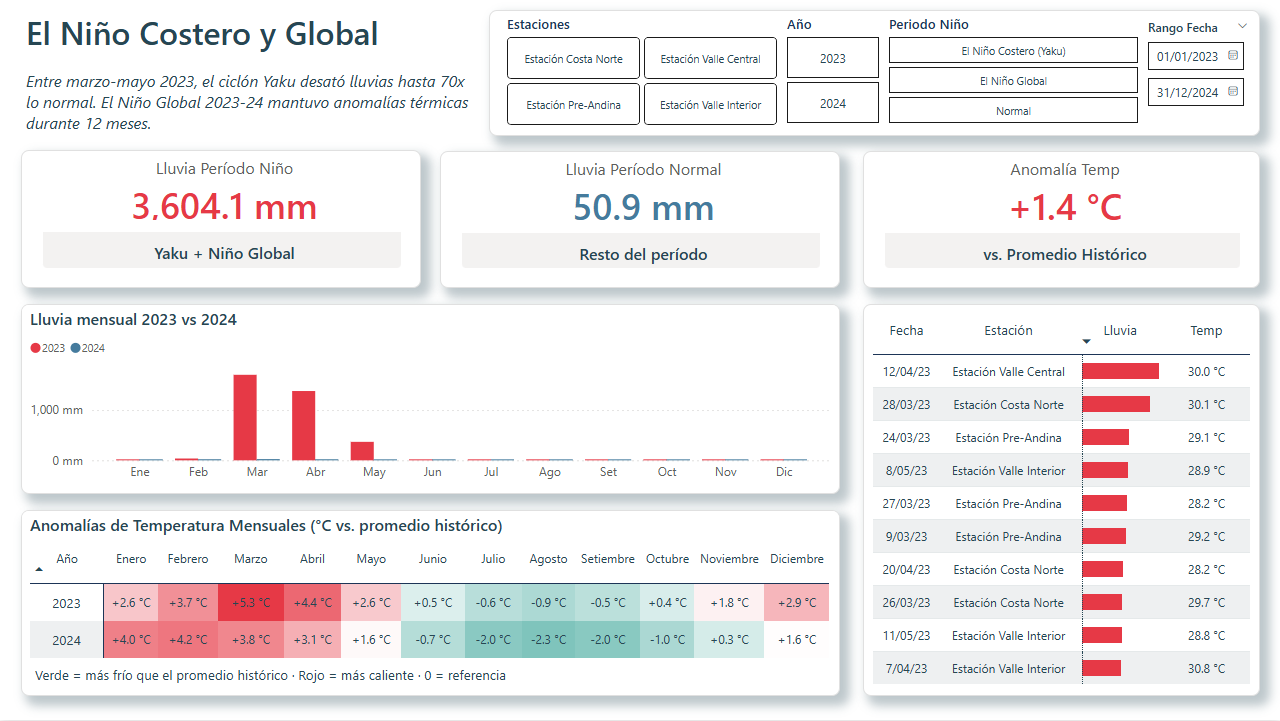

The dashboard page shown, as its layout file describes it:
{"tool":"powerbi","page":{"name":"El Niño 2023-24","canvas":[1280,720],"ordinal":1},"visuals":[{"type":"shape","box":[489.2,10,770.7,125.7],"z":0},{"type":"textbox","box":[20.7,5.2,462.5,140.7],"z":1000},{"type":"advancedSlicerVisual","title":"Estaciones","fields":{"Values":["dim_station.station_name"]},"box":[502,15.5,279.7,114.8],"z":2000},{"type":"slicer","fields":{"Values":["dim_date.date_local"]},"box":[1135,14.5,125.5,114.8],"z":3000},{"type":"listSlicer","fields":{"Values":["dim_date.year"]},"box":[781.7,14.6,102,114.8],"z":4000},{"type":"listSlicer","fields":{"Values":["dim_date.enso_period"]},"box":[883.7,15.5,259.6,114.8],"z":5000},{"type":"cardVisual","fields":{"Data":["fact_daily_summary.Lluvia en Período Niño"]},"box":[21,150.4,400,138],"z":6000},{"type":"cardVisual","fields":{"Data":["fact_daily_summary.Lluvia en Período Normal"]},"box":[440,151.2,399.9,136.7],"z":7000},{"type":"cardVisual","fields":{"Data":["fact_daily_summary.Anomalía Temp vs Promedio Histórico"]},"box":[862.7,151.2,397.2,136.7],"z":8000},{"type":"clusteredColumnChart","title":"Lluvia mensual 2023 vs 2024","fields":{"Category":["dim_date.month_3name"],"Y":["fact_daily_summary.Precipitación Acumulada"],"Series":["dim_date.year"]},"box":[20.7,304.2,819.5,189.4],"z":9000},{"type":"tableEx","fields":{"Values":["dim_date.date_local","dim_station.station_name","fact_daily_summary.Precipitación Acumulada","fact_daily_summary.Temp Promedio"]},"box":[863,304.2,397.3,392.2],"z":10000},{"type":"pivotTable","title":"Anomalías de Temperatura Mensuales (°C vs. promedio histórico)","fields":{"Rows":["dim_date.year"],"Values":["fact_daily_summary.Anomalía Temp vs Promedio Histórico"],"Columns":["dim_date.month_name_es"]},"box":[20.7,510.1,819.5,186.3],"z":11000},{"type":"textbox","box":[30,661.2,803,35.2],"z":12000}]}

Visuals, with their boxes in screenshot pixels (x1, y1, x2, y2), scaled from the page's 1280x720 canvas onto the 1280x721 screenshot:
shape: l=489, t=10, r=1260, b=136
textbox: l=21, t=5, r=483, b=146
"Estaciones" advancedSlicerVisual: l=502, t=16, r=782, b=130
slicer - dim_date.date_local: l=1135, t=15, r=1260, b=129
listSlicer - dim_date.year: l=782, t=15, r=884, b=130
listSlicer - dim_date.enso_period: l=884, t=16, r=1143, b=130
cardVisual - fact_daily_summary.Lluvia en Período Niño: l=21, t=151, r=421, b=289
cardVisual - fact_daily_summary.Lluvia en Período Normal: l=440, t=151, r=840, b=288
cardVisual - fact_daily_summary.Anomalía Temp vs Promedio Histórico: l=863, t=151, r=1260, b=288
"Lluvia mensual 2023 vs 2024" clusteredColumnChart: l=21, t=305, r=840, b=494
tableEx - dim_date.date_local x dim_station.station_name: l=863, t=305, r=1260, b=697
"Anomalías de Temperatura Mensuales (°C vs. promedio histórico)" pivotTable: l=21, t=511, r=840, b=697
textbox: l=30, t=662, r=833, b=697
